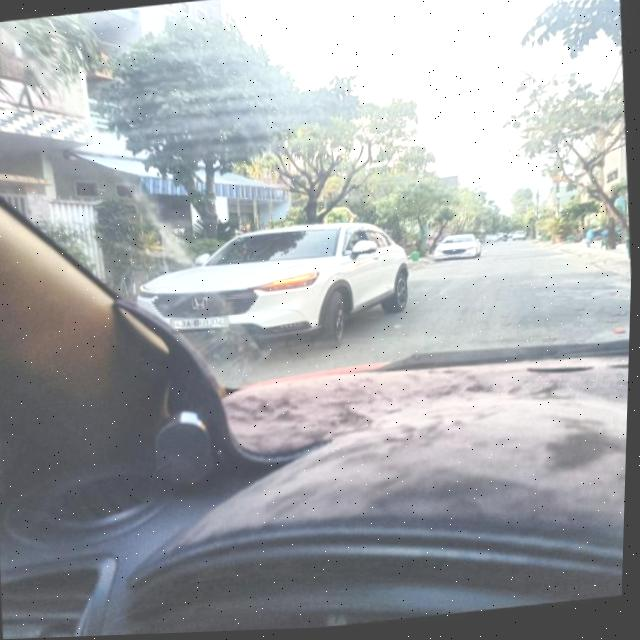car: (116, 214, 414, 369), (431, 227, 483, 263)
plate: (162, 308, 234, 337)
